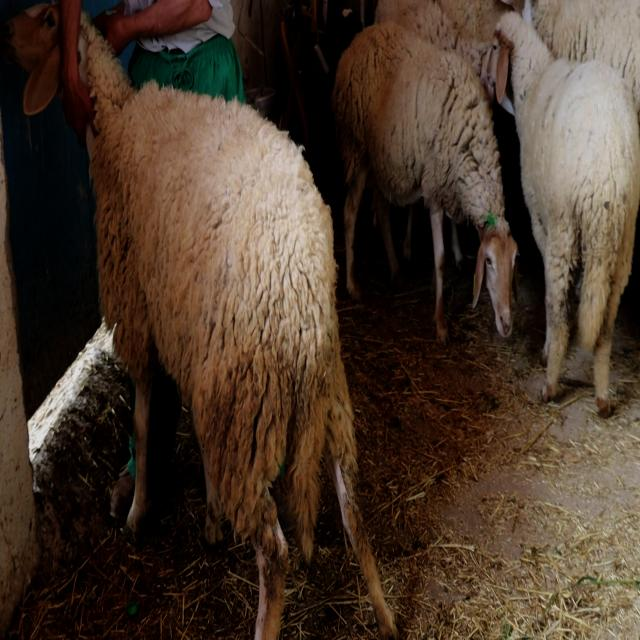Score_4: (80, 13, 397, 639)
